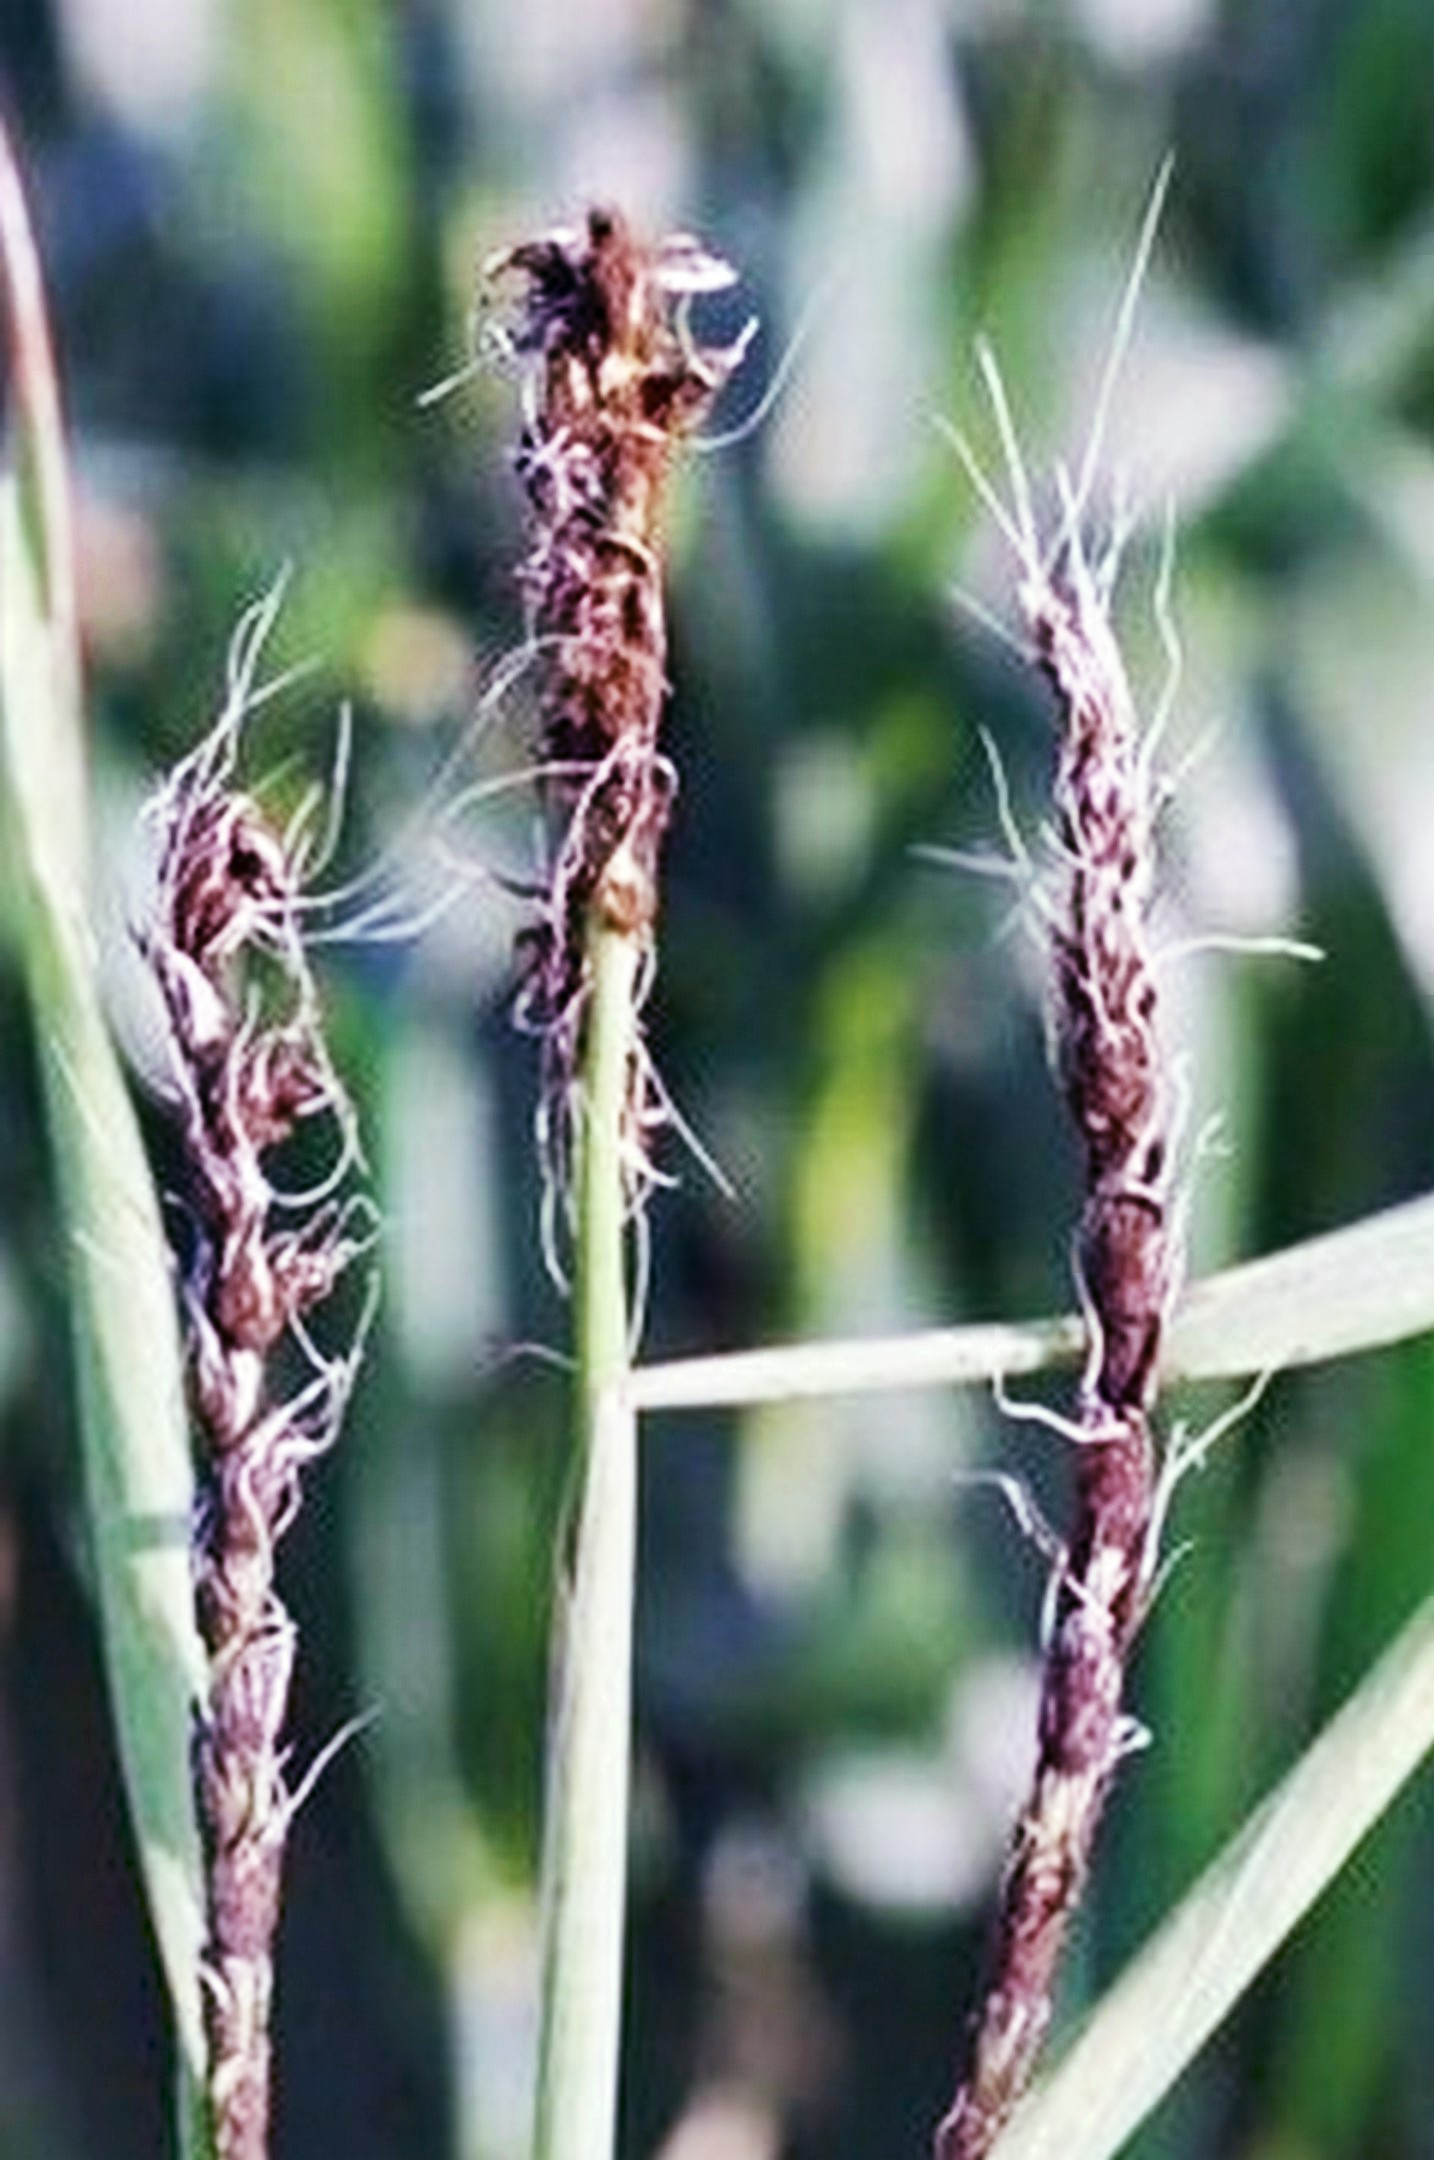Wheat Loose Smut: (975, 475, 1236, 2062), (110, 762, 413, 1926), (442, 166, 752, 1040)
